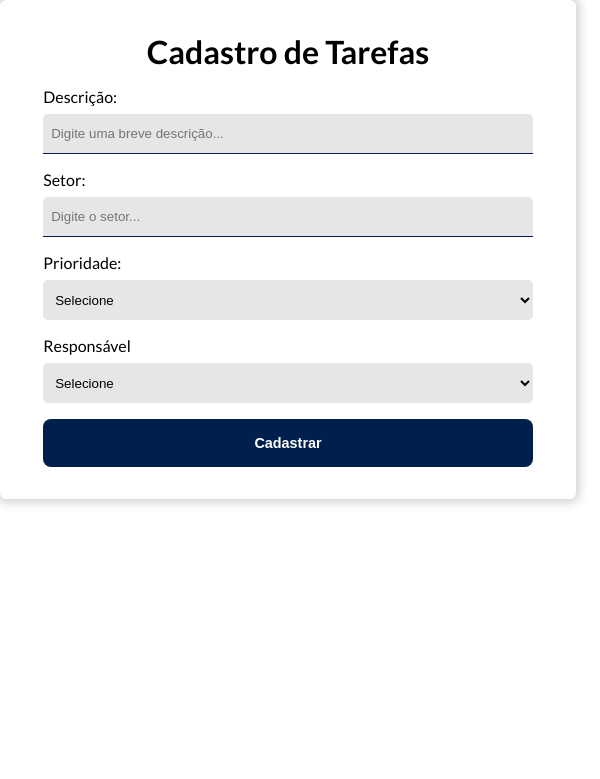
Cadastro de tarefas › Exibe mensagem de erro quando o usuário digita muitas vezes uma palavra no campo descrição
Type "teste teste teste" into the field labelled "Descrição:" at (288,134), box [43,114,533,154]
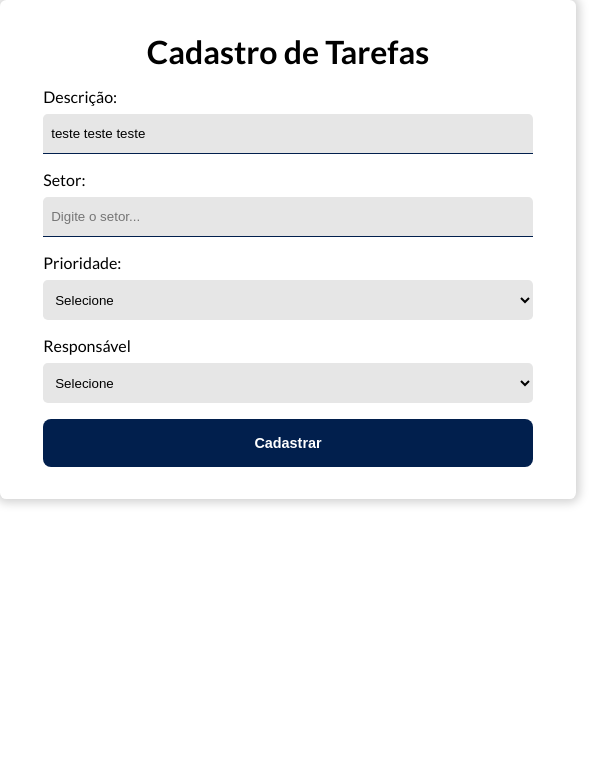
Click the button "Cadastrar" at (288,443), box [43,419,533,467]
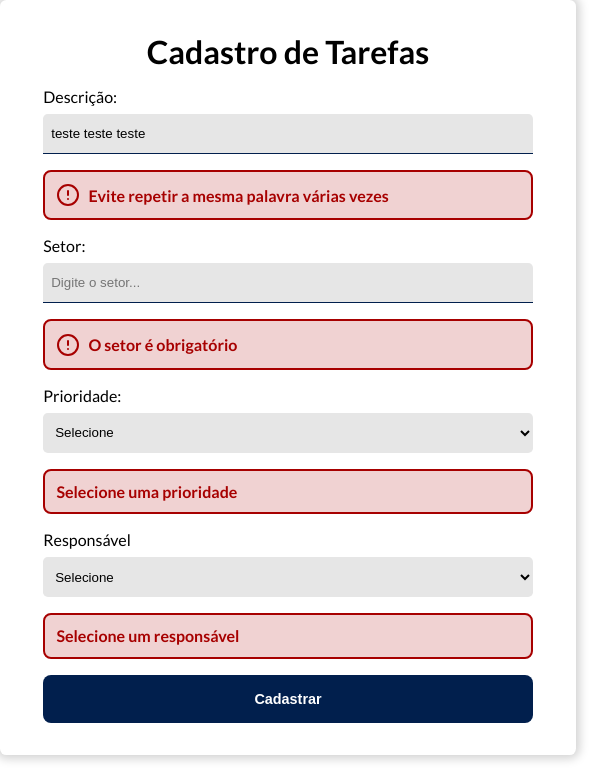
Check: the text "Evite repetir a mesma palavra várias vezes" is shown, box [43,170,533,220]
